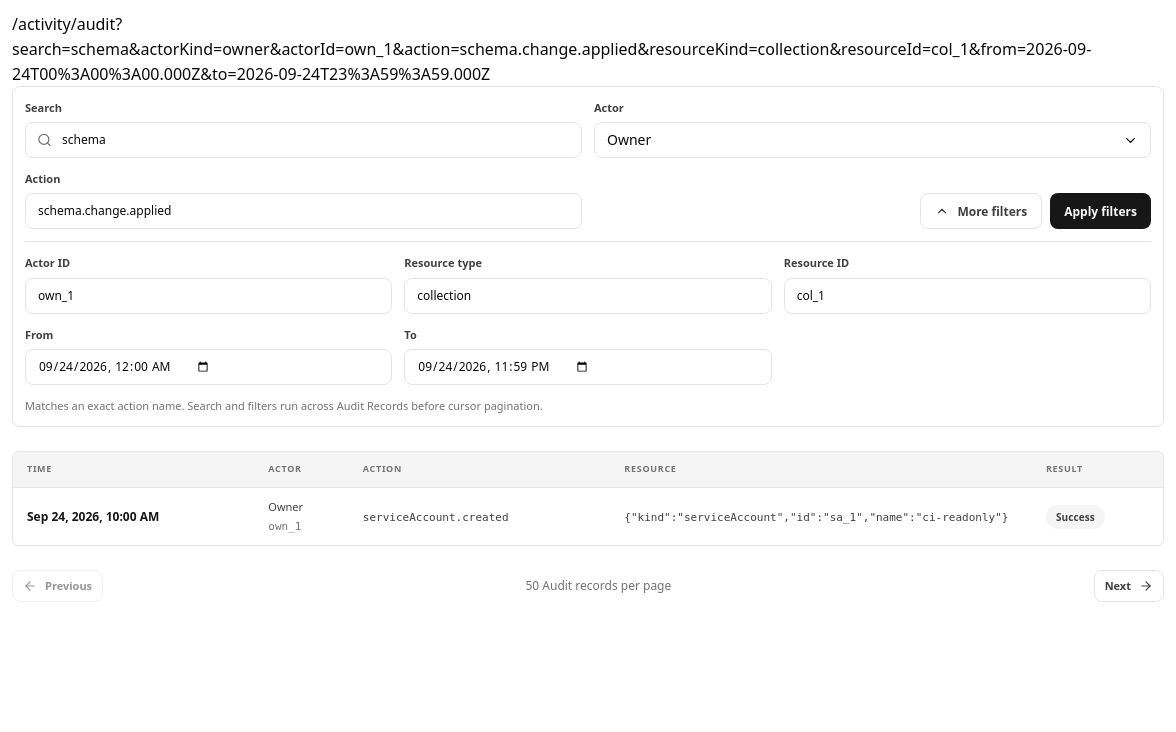
Test case: Access and Audit pages › sends Audit filters to the server and retains them across cursor pages and detail links
Expected: the link "Sep 24, 2026, 10:00 AM" is shown, [27,508,159,525]
Step 1. Click the button "Next" → (1129, 586), box [1094,570,1164,602]
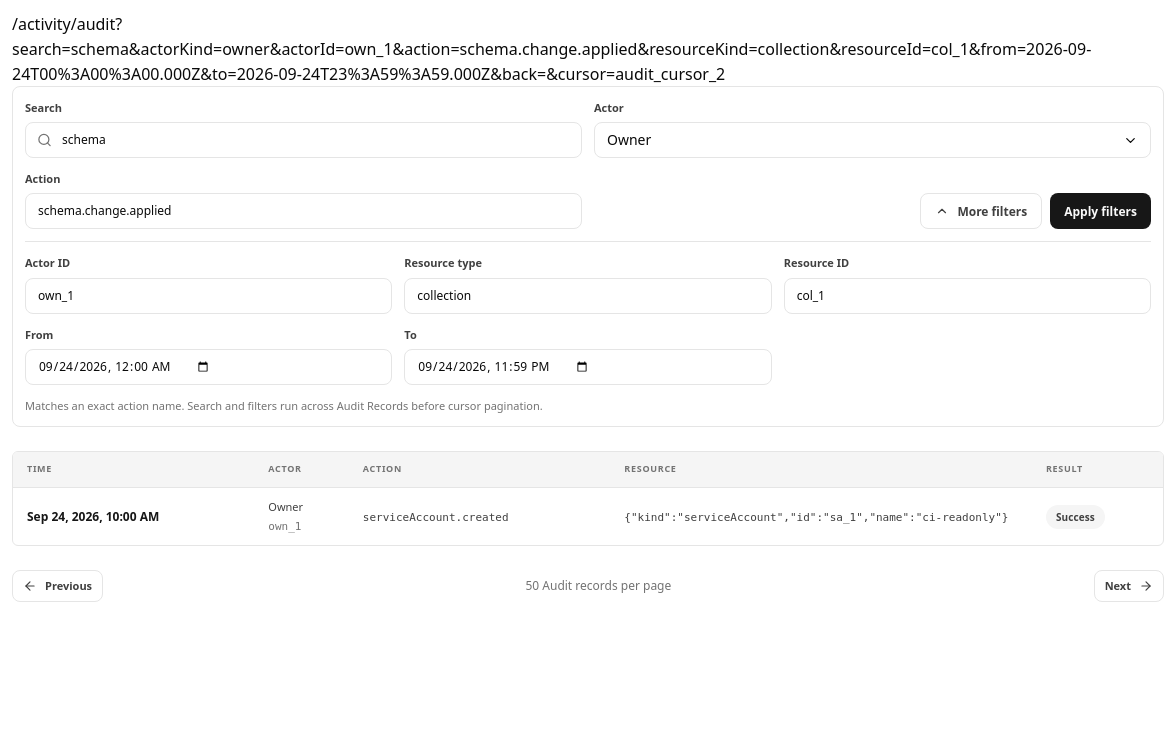
Expected: the text with test id "current-location" shows "actorKind=owner", [12,13,1091,85]
Expected: the text with test id "current-location" shows "cursor=audit_cursor_2", [12,13,1091,85]
